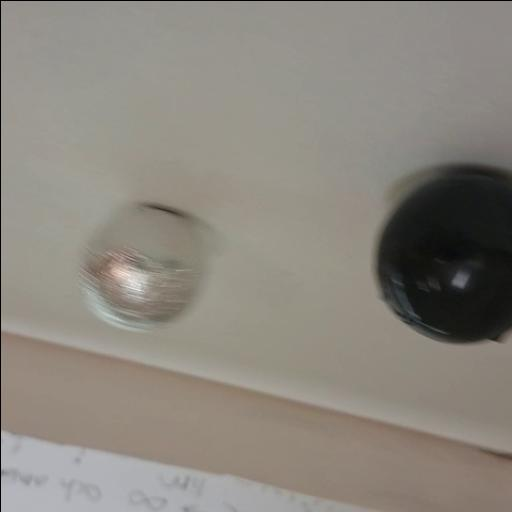alive: (76, 202, 208, 332)
dead: (373, 164, 512, 345)
